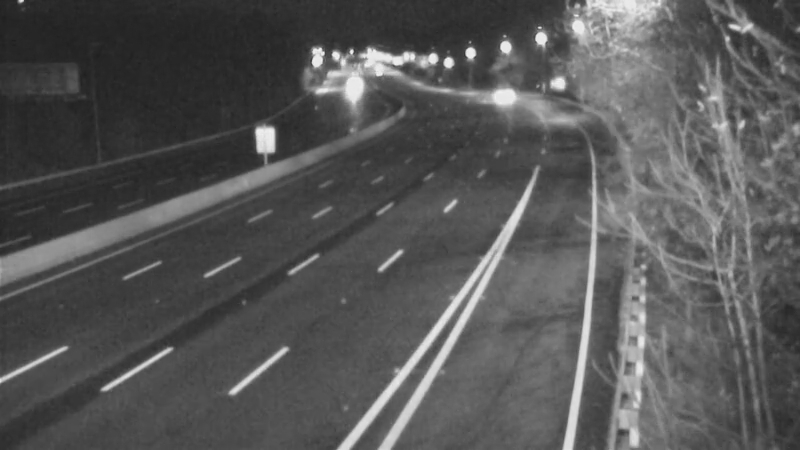vehicle: (479, 72, 529, 122), (330, 66, 380, 116)
